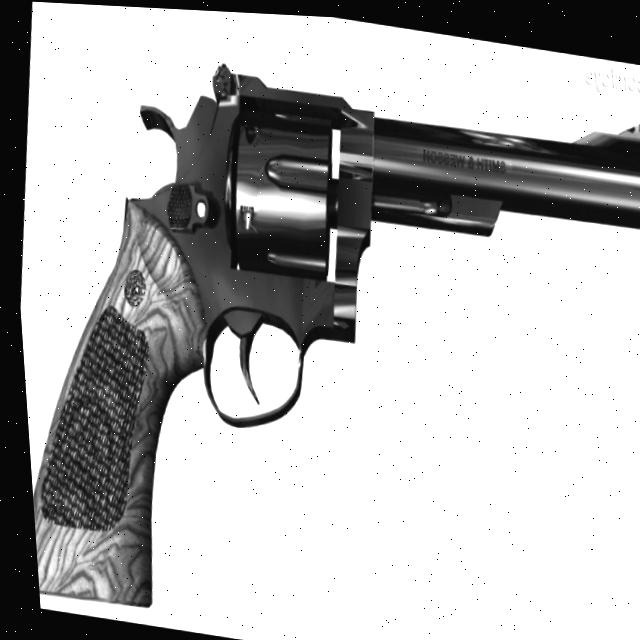pistol: (1, 16, 640, 640)
